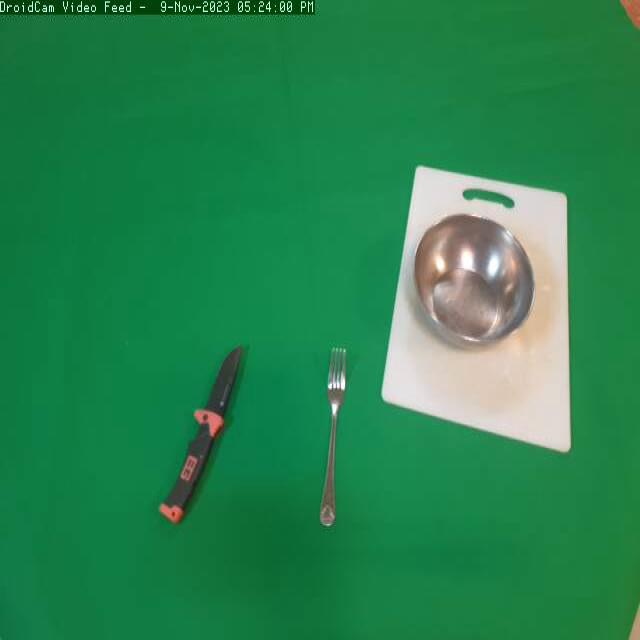bowl: (410, 210, 536, 367)
cutting board: (367, 153, 595, 488)
fork: (310, 331, 358, 549)
knife: (150, 323, 253, 541)
